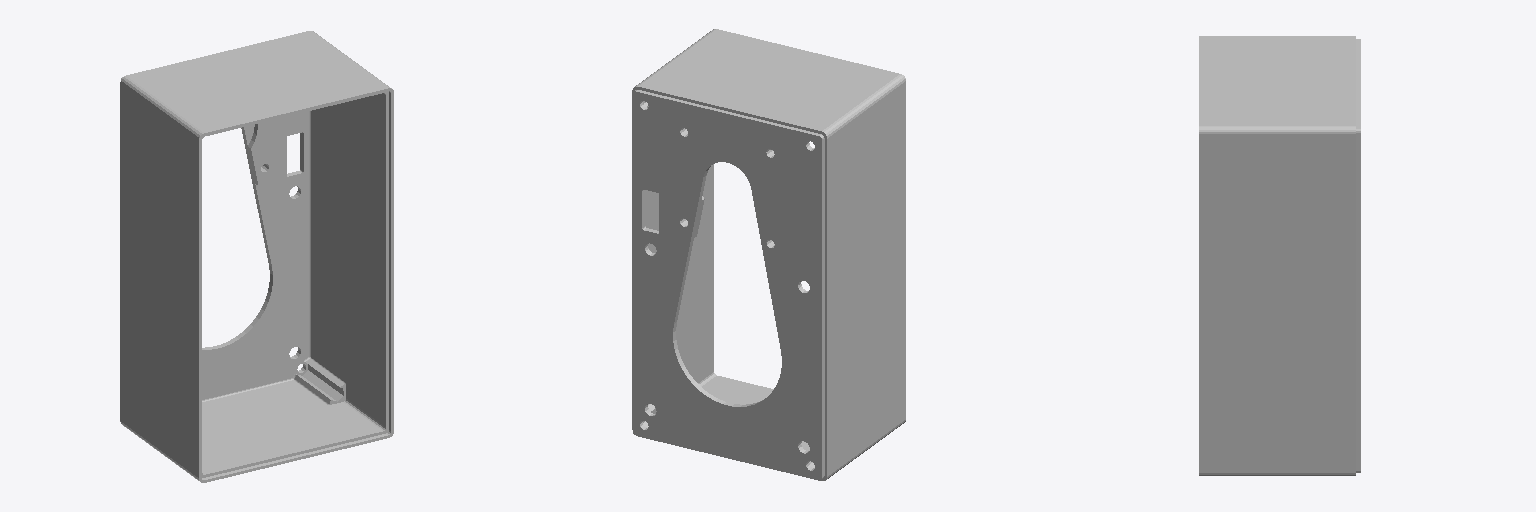
File: actuatorCore.obj
3 views of the same model, side by side, from view 1: azimuth 30°, elevation 25°; view 2: azimuth 150°, elevation 25°; view 3: azimuth 270°, elevation 25° (orthographic).
Parts seen in each view (by area): view 1: Body3; view 2: Body3; view 3: Body3.
Boxes of the visible parts, x1=… form: Body3: x1=120, y1=31, x2=393, y2=482; Body3: x1=632, y1=29, x2=905, y2=480; Body3: x1=1199, y1=36, x2=1360, y2=475.
Size of the model in its own units: 7 by 12 by 5.05.